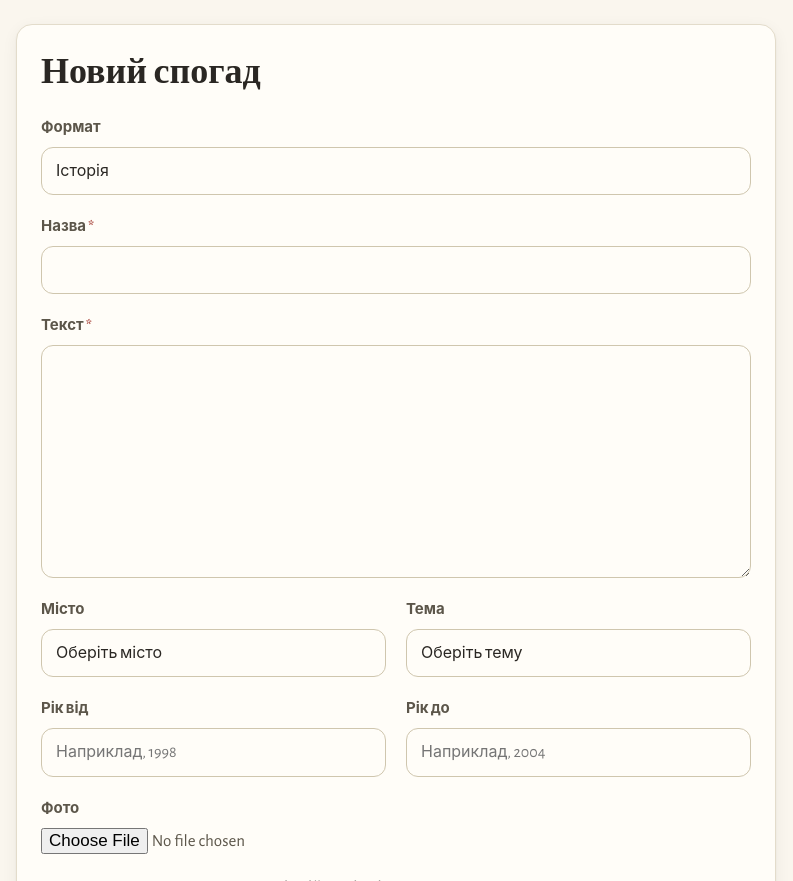
Test: MemoryFormPage › blocks submission with an inline message when a year field is not numeric
The image size is (793, 881).
Type "Спогад" into the field labelled "Назва *" at (396, 270), box [41,246,751,294]
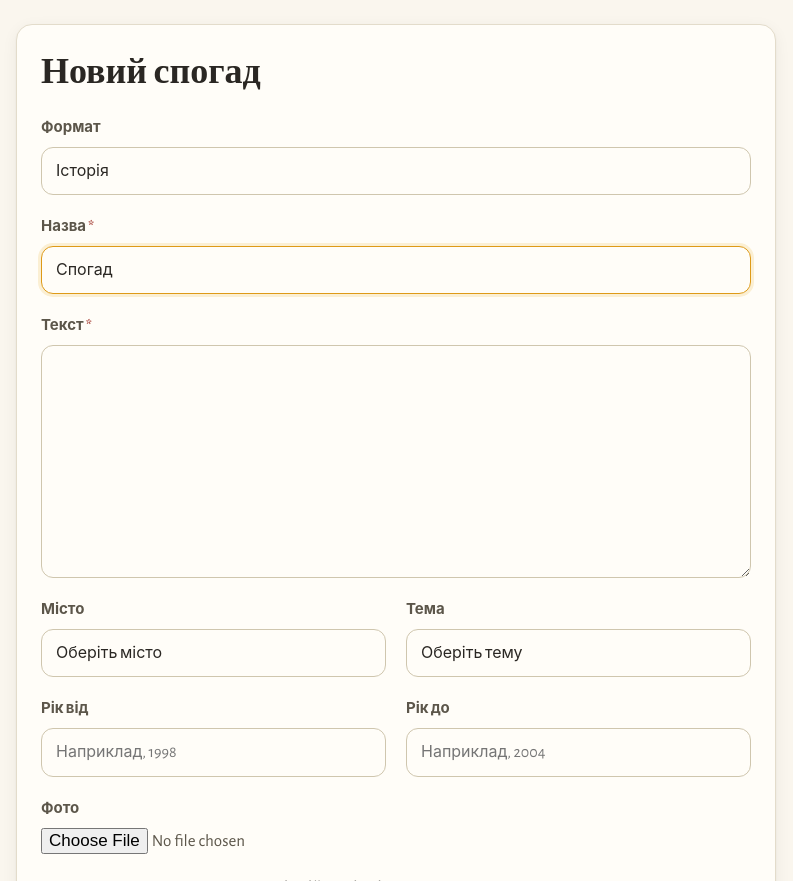
Type "Текст спогаду" into the text box labelled "Текст *" at (396, 462), box [41,345,751,578]
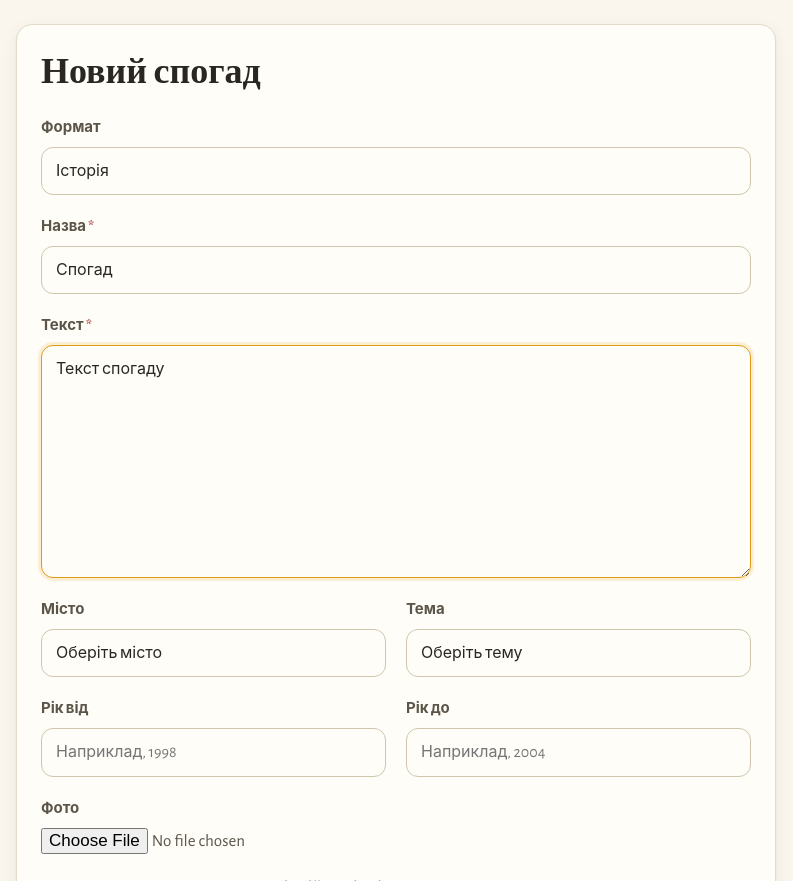
Type "abcd" into the field labelled "Рік від" at (214, 752), box [41,728,386,777]
(page scrolled)
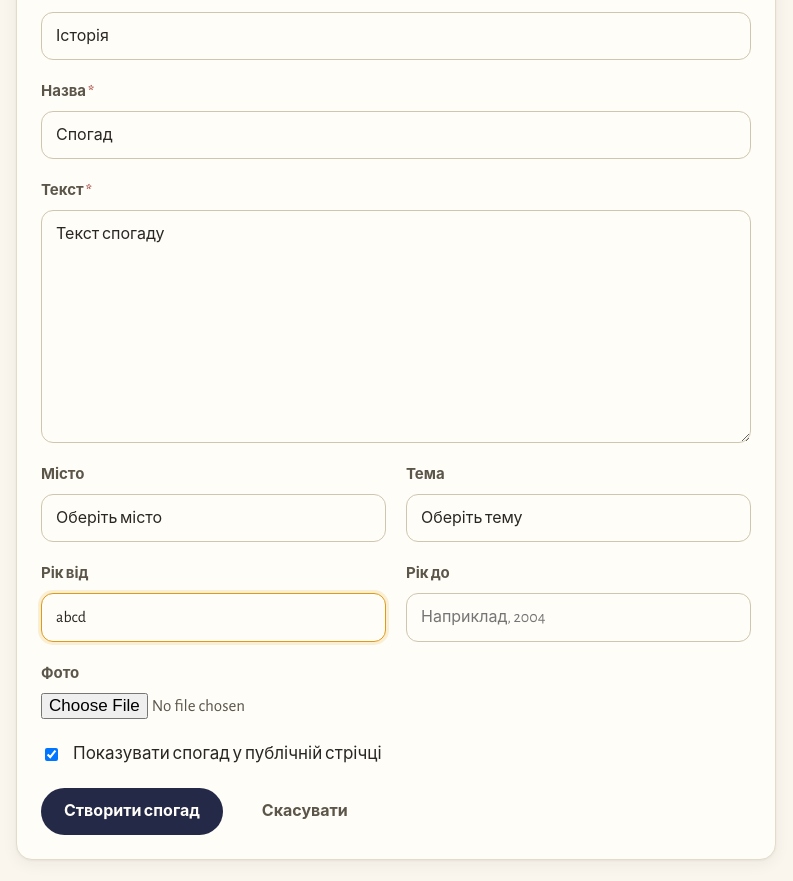
Click the button "Створити спогад" at (132, 812), box [41,788,223,835]
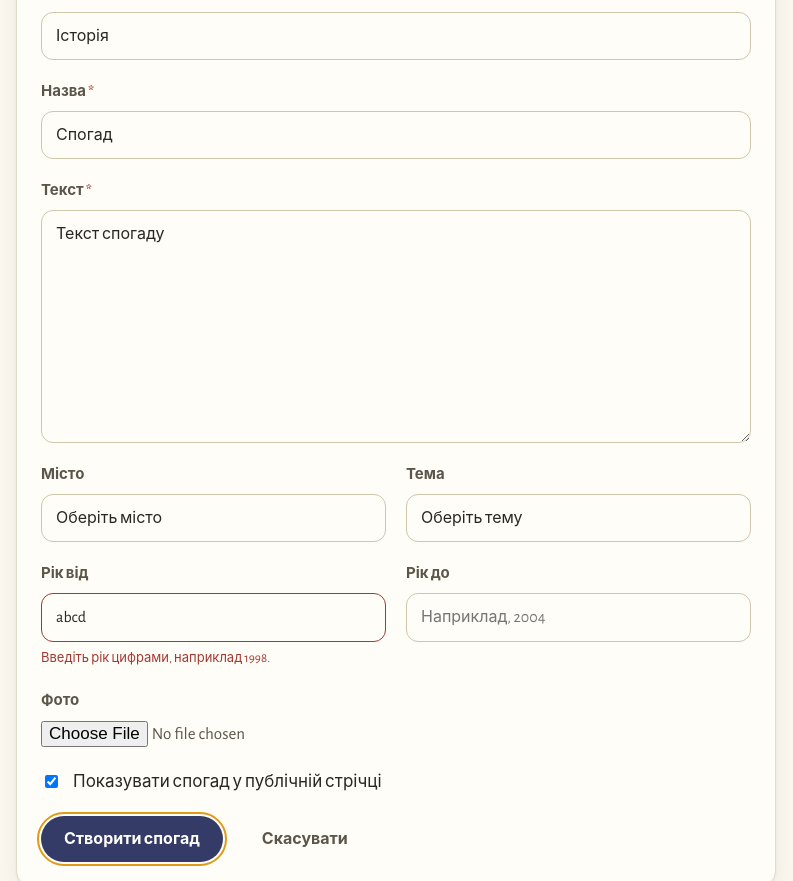
Expected: the text "Введіть рік цифрами, наприклад 1998." is shown, [41,652,270,665]
